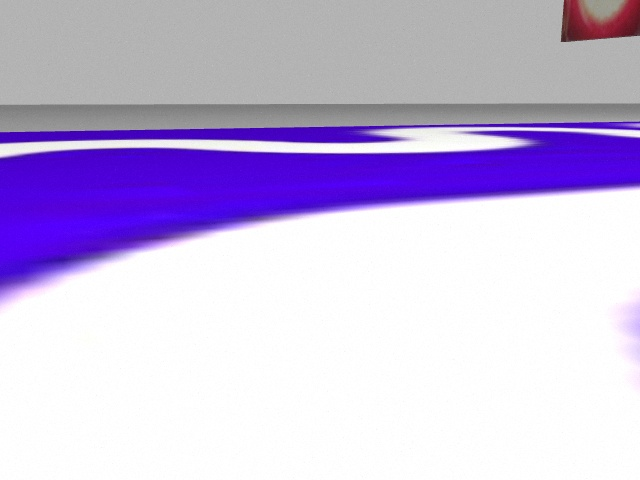red: (564, 1, 640, 36)
